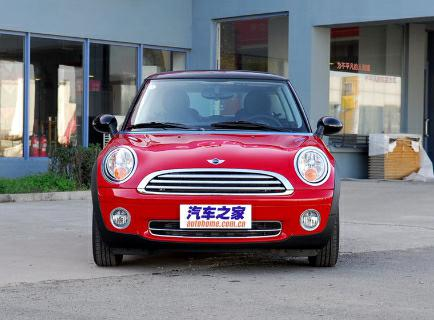MINI: (87, 82, 346, 277)
